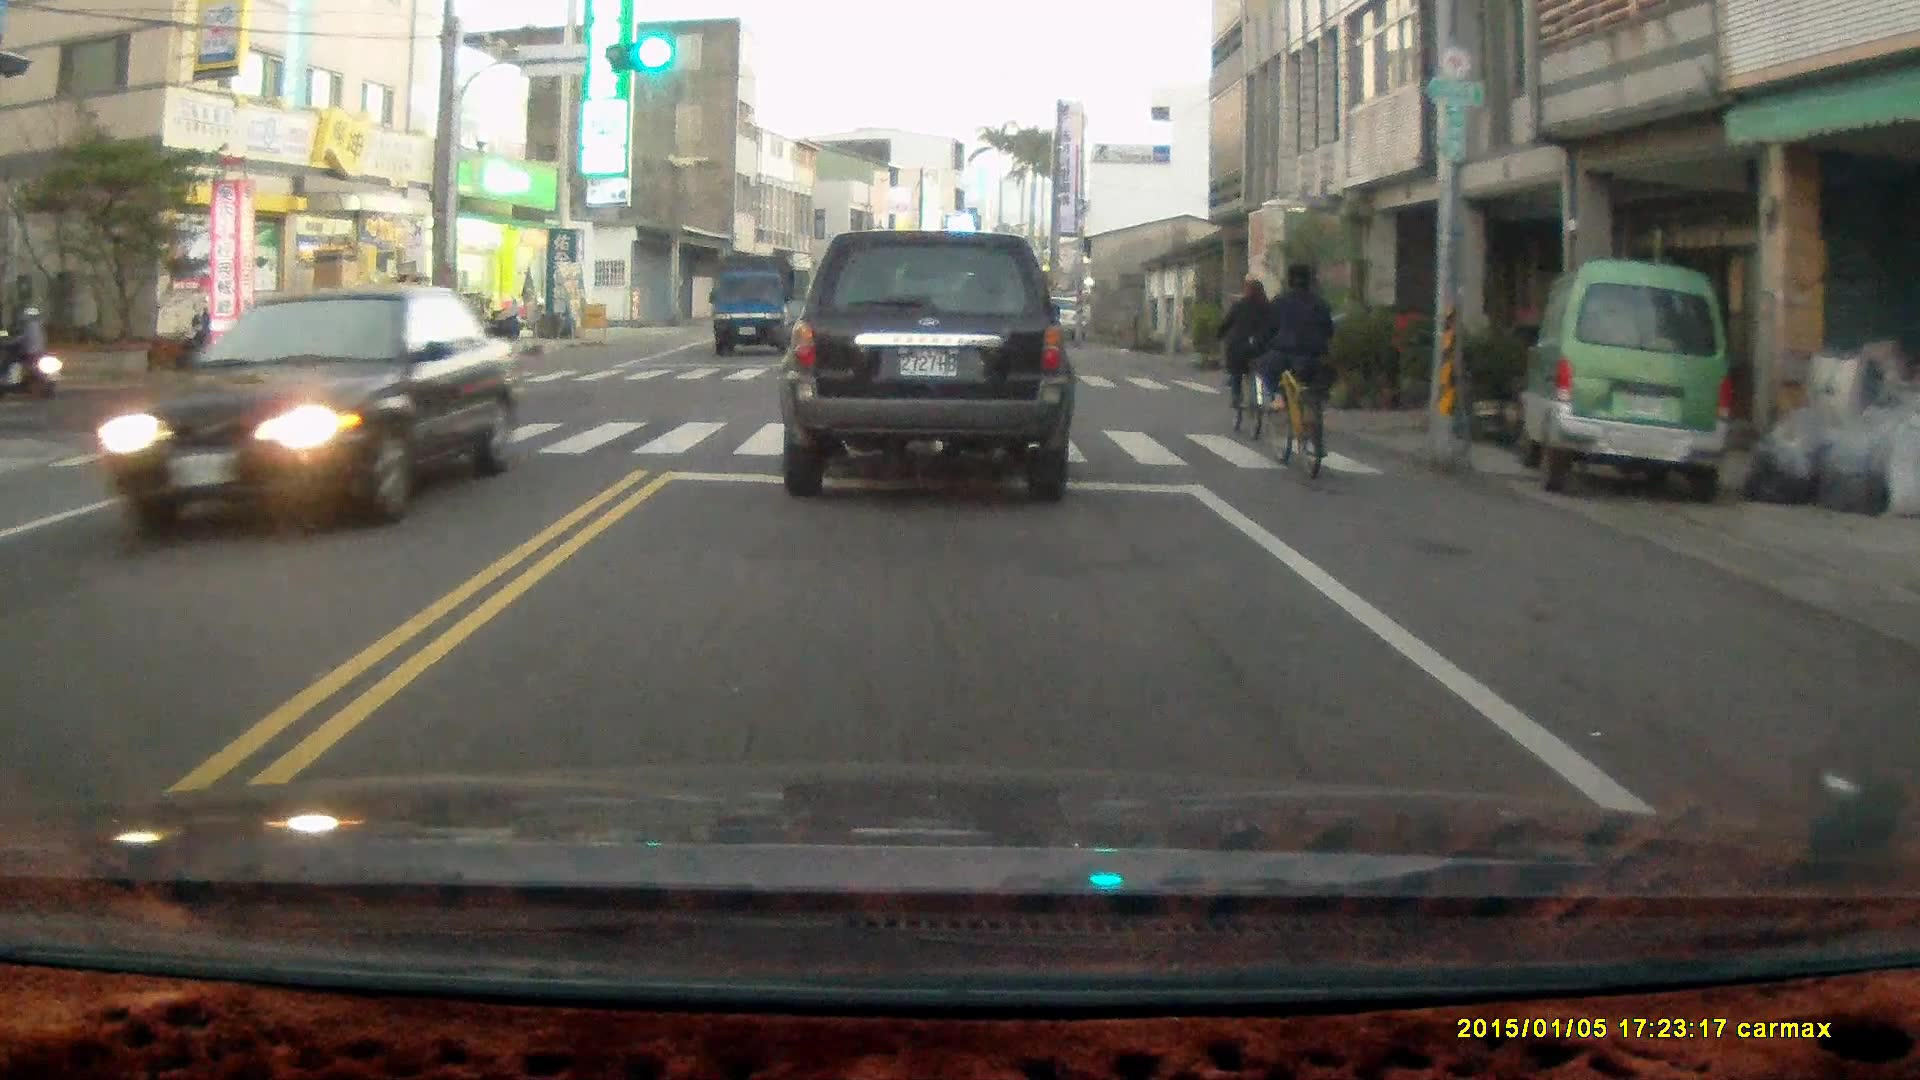rider: (1251, 258, 1337, 475), (1217, 279, 1276, 452), (4, 303, 63, 402)
vehicle: (100, 288, 532, 534), (780, 229, 1074, 503), (1518, 260, 1738, 508), (715, 253, 810, 356)
